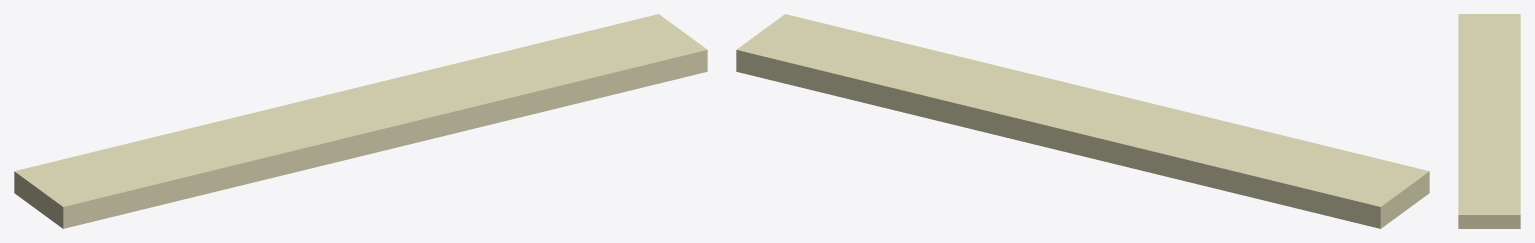
Rendered from lamp.fbx.
The picture shows the model from 3 angles, left to right: view 1: azimuth 30°, elevation 25°; view 2: azimuth 150°, elevation 25°; view 3: azimuth 270°, elevation 25°; orthographic projection. The views are drawn at different scales.
Visible parts, largest first — view 1: Lamp; view 2: Lamp; view 3: Lamp.
Part boxes in pixels (x1,y1,x2,y2): Lamp: [14, 14, 707, 228]; Lamp: [736, 14, 1429, 228]; Lamp: [1458, 14, 1520, 228].
Size of the model in its own units: 200 by 6.51 by 26.29.
